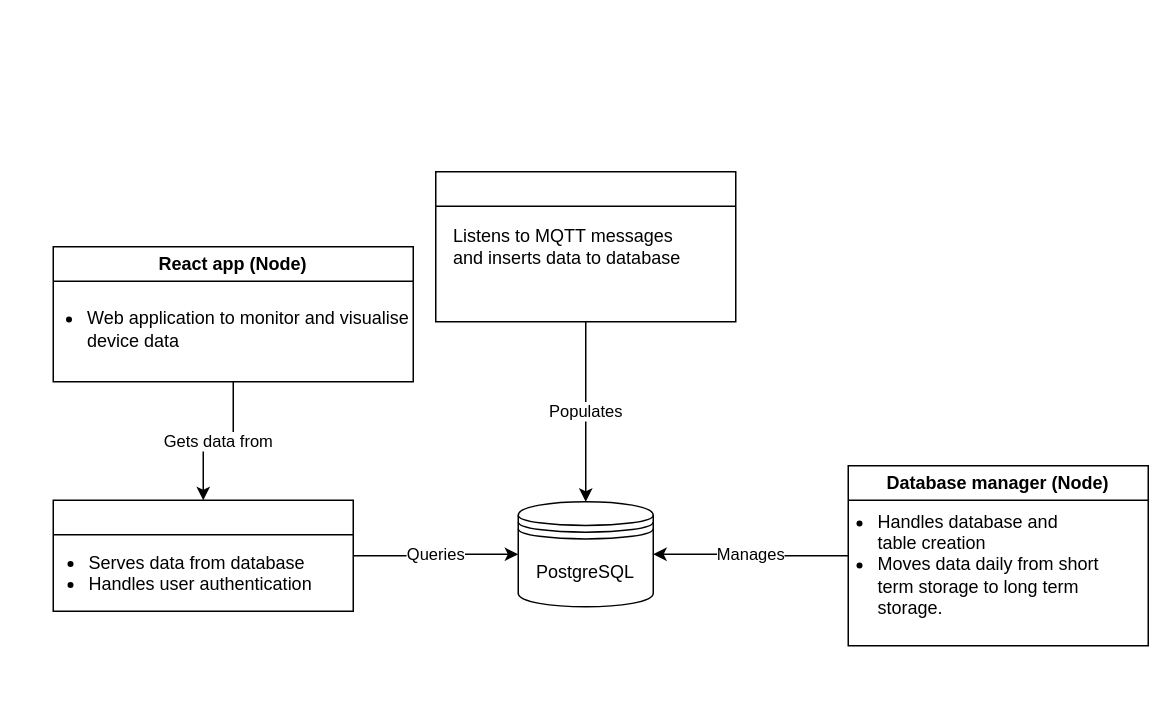
Image size: 1175x714. Some labels were removed from this diagram. The shapes that lost their labels are listed below. From the top down, each one's box as (x1, y1, x2, y2) in pixels, then its label:
(434, 170, 736, 322): MQTT Subscriber (Node)
(52, 499, 353, 611): REST API (Node)
